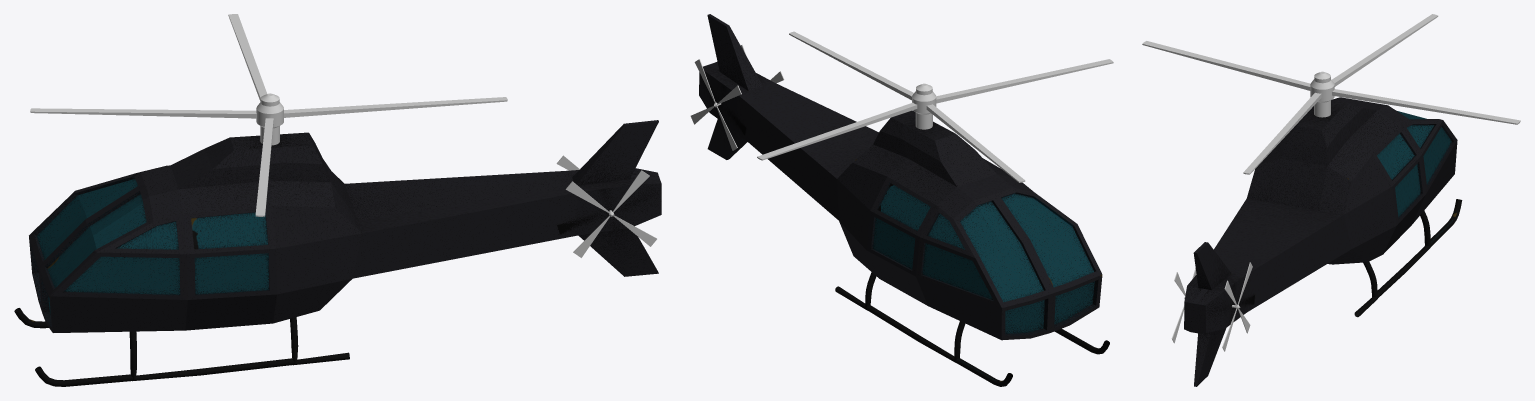
File: anim_000157.obj
3 views of the same model, side by side, from view 1: azimuth 30°, elevation 25°; view 2: azimuth 150°, elevation 25°; view 3: azimuth 270°, elevation 25° (orthographic). The views are drawn at different scales.
Visible parts, largest first — view 1: Helicopter.007_Cylinder.008, Helicopter.001_Cylinder.001, Helicopter.003_Cylinder.004; view 2: Helicopter.007_Cylinder.008, Helicopter.001_Cylinder.001, Helicopter.004_Cylinder.005; view 3: Helicopter.007_Cylinder.008, Helicopter.001_Cylinder.001, Helicopter.004_Cylinder.005.
Boxes of the visible parts, <box> form: Helicopter.007_Cylinder.008: <box>14,120,661,386</box>; Helicopter.001_Cylinder.001: <box>30,14,507,216</box>; Helicopter.003_Cylinder.004: <box>565,170,656,257</box>; Helicopter.007_Cylinder.008: <box>699,14,1109,386</box>; Helicopter.001_Cylinder.001: <box>757,31,1113,182</box>; Helicopter.004_Cylinder.005: <box>690,59,741,150</box>; Helicopter.007_Cylinder.008: <box>1184,97,1462,386</box>; Helicopter.001_Cylinder.001: <box>1142,14,1520,174</box>; Helicopter.004_Cylinder.005: <box>1222,262,1252,351</box>.
Bounding box in the file's own units: 7.33 × 3.21 × 5.02.
